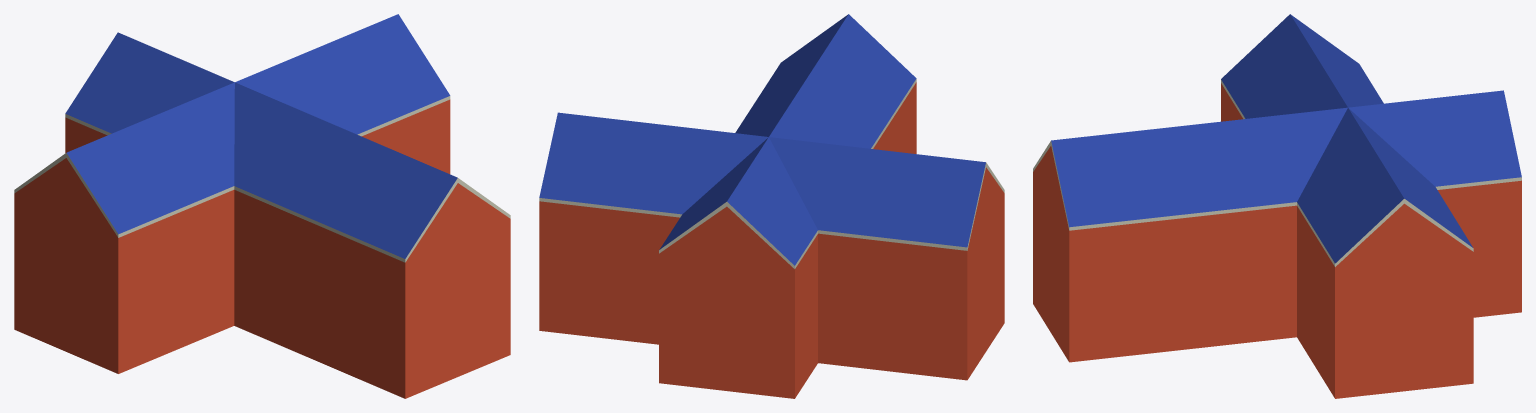
File: Shattuck Hall.fbx
3 renders of one model, left to right at view 1: azimuth 30°, elevation 25°; view 2: azimuth 150°, elevation 25°; view 3: azimuth 270°, elevation 25°, orthographic. The views are drawn at different scales.
Visible parts, largest first — view 1: Shattuck; view 2: Shattuck; view 3: Shattuck.
Part boxes in pixels (left/top/right/bottom): Shattuck: left=14, top=14, right=510, bottom=398; Shattuck: left=539, top=14, right=1004, bottom=398; Shattuck: left=1033, top=14, right=1521, bottom=398.
Size of the model in its own units: 359 by 161 by 371.
